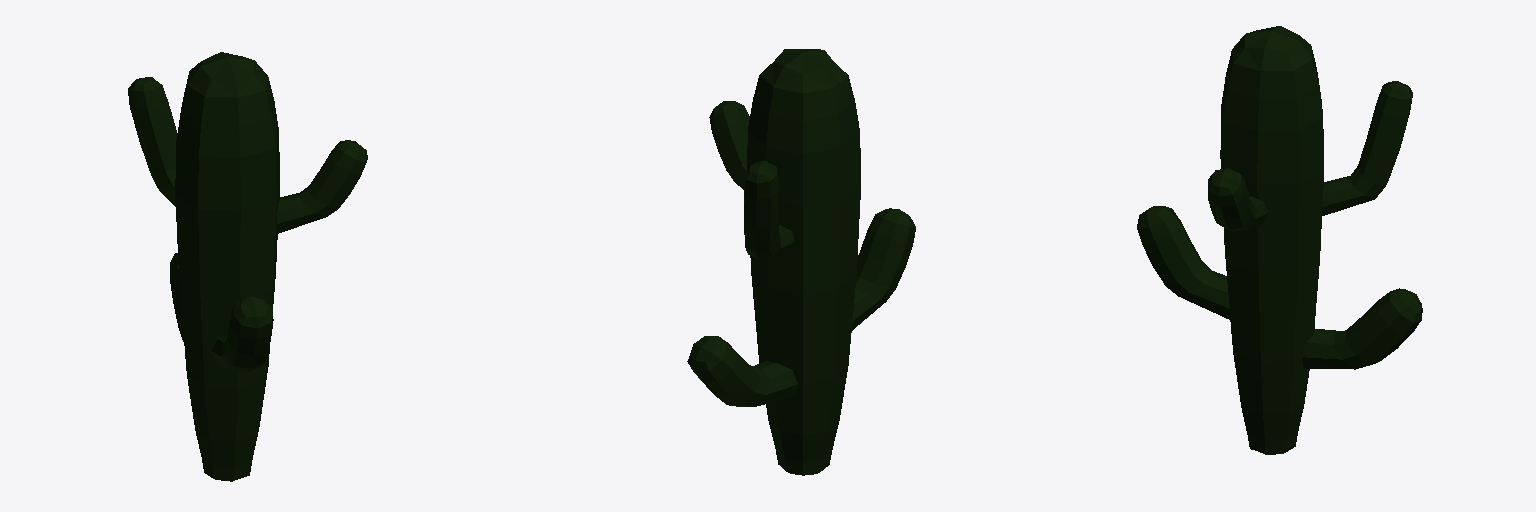
The model's file is Cactus_2.obj.
3 views of the same model, side by side, from view 1: azimuth 30°, elevation 25°; view 2: azimuth 150°, elevation 25°; view 3: azimuth 270°, elevation 25° (orthographic).
Parts seen in each view (by area): view 1: Cactus_2; view 2: Cactus_2; view 3: Cactus_2.
Part boxes in pixels (x1,y1,x2,y2): Cactus_2: (128,52,367,481); Cactus_2: (687,49,915,475); Cactus_2: (1137,26,1422,454).
Bounding box in the file's own units: 0.7002 × 1.7 × 1.05.